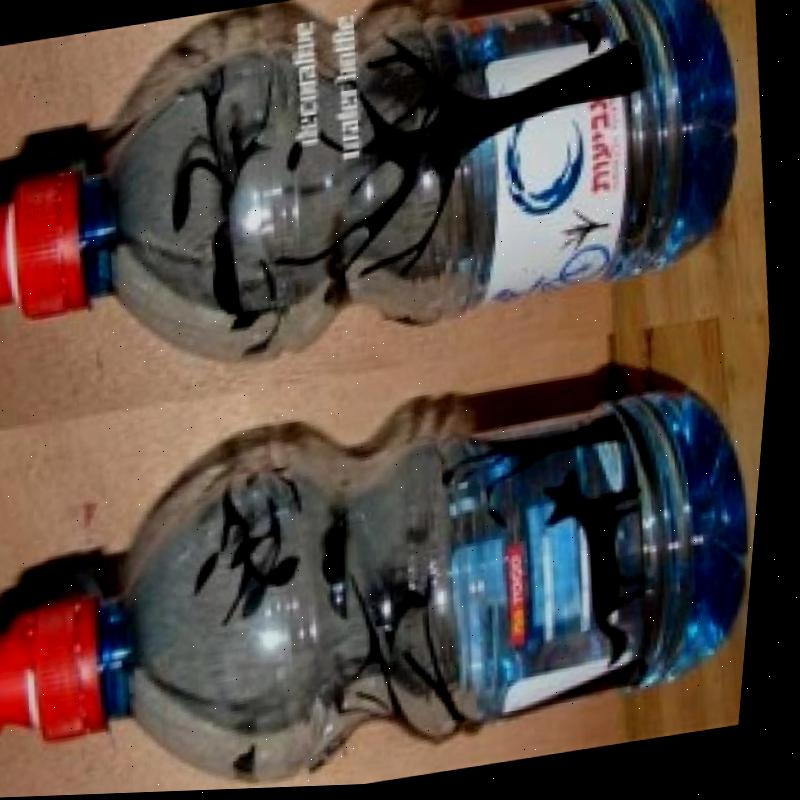botella: (0, 364, 775, 799), (0, 0, 769, 406)
